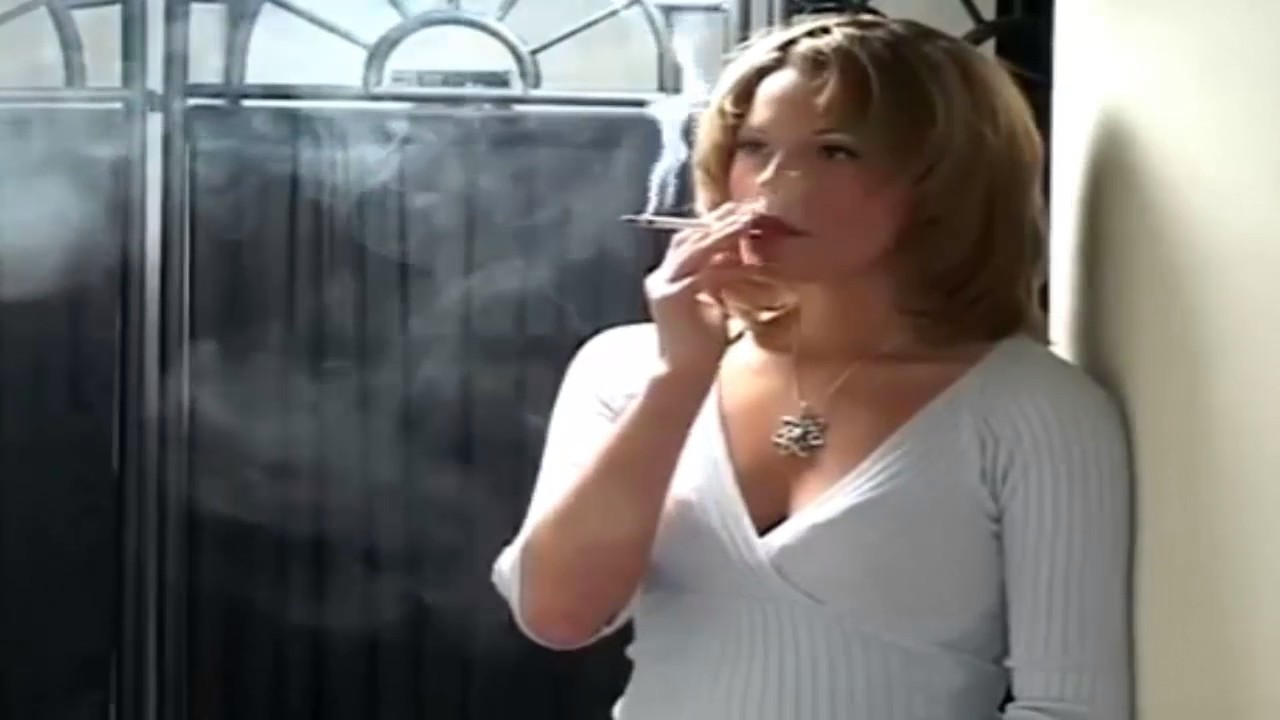cigarette: (605, 201, 748, 243)
